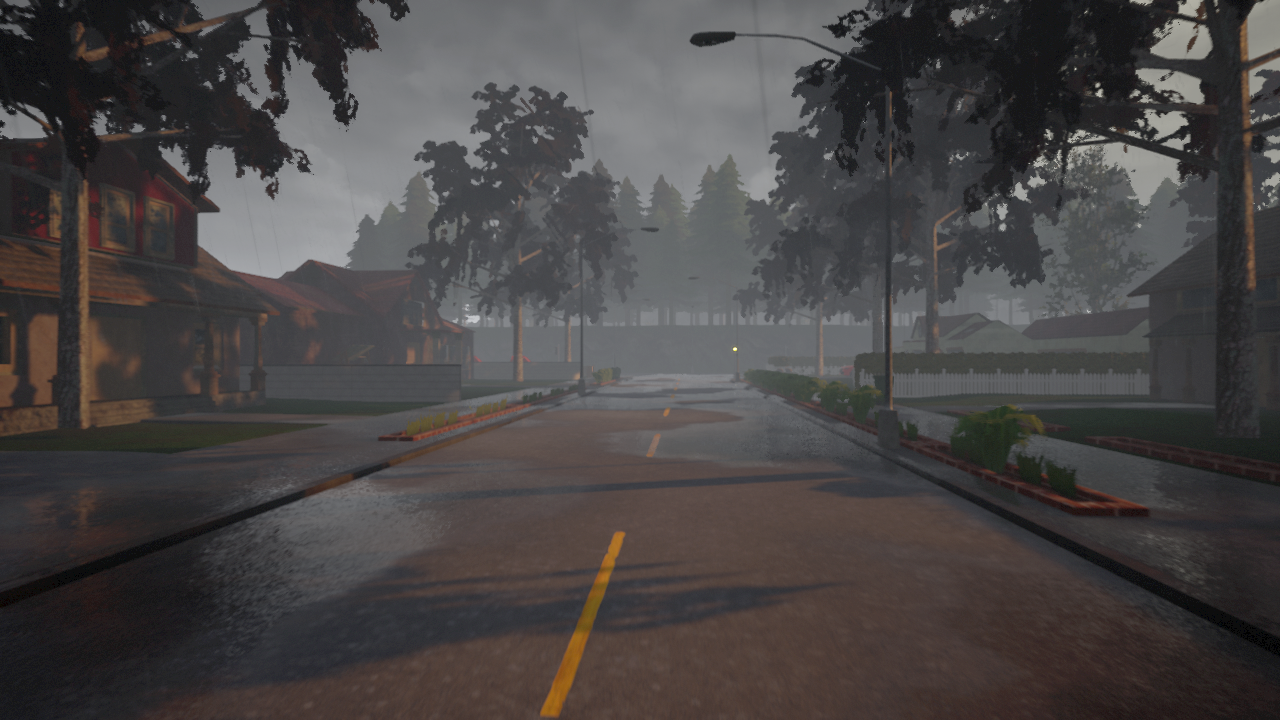yellow: (732, 342, 739, 356)
